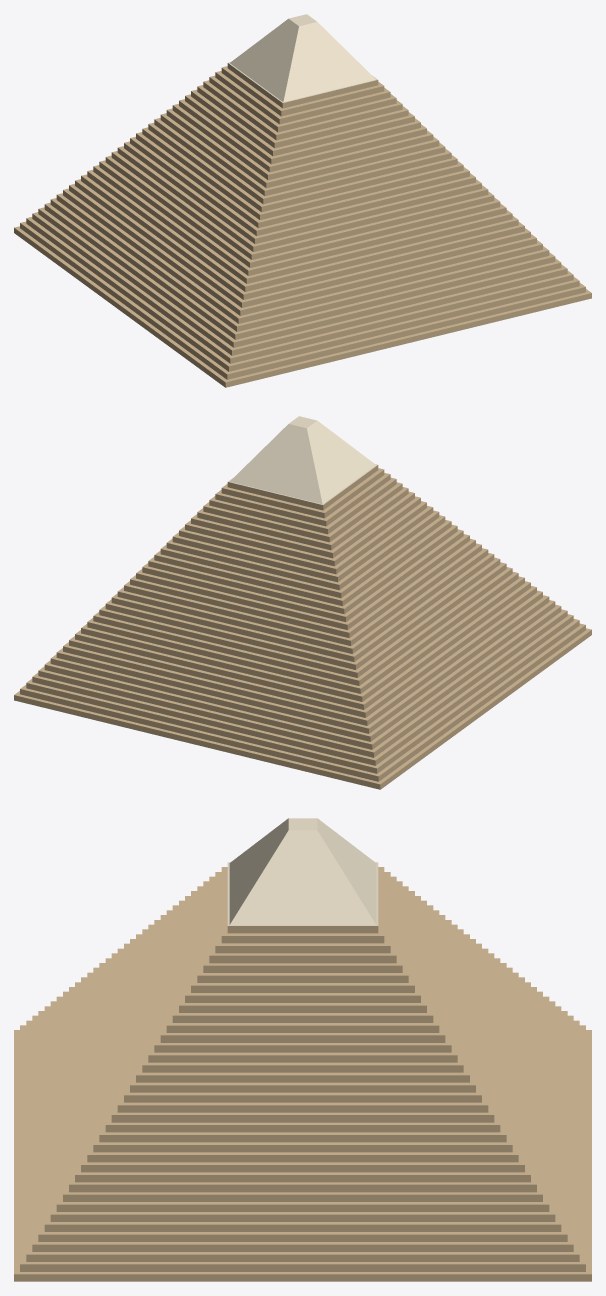
The model's file is giza-pyramid-of-khafre.glb.
3 renders of one model, top to bottom at view 1: azimuth 30°, elevation 25°; view 2: azimuth 150°, elevation 25°; view 3: azimuth 270°, elevation 25°, orthographic. The views are drawn at different scales.
Parts seen in each view (by area): view 1: Pyramid of Khafre; view 2: Pyramid of Khafre; view 3: Pyramid of Khafre.
Part boxes in pixels (x1,y1,x2,y2): Pyramid of Khafre: (14,14,591,387); Pyramid of Khafre: (14,416,591,789); Pyramid of Khafre: (14,818,591,1281).
Bounding box in the file's own units: 213 × 136 × 213.
